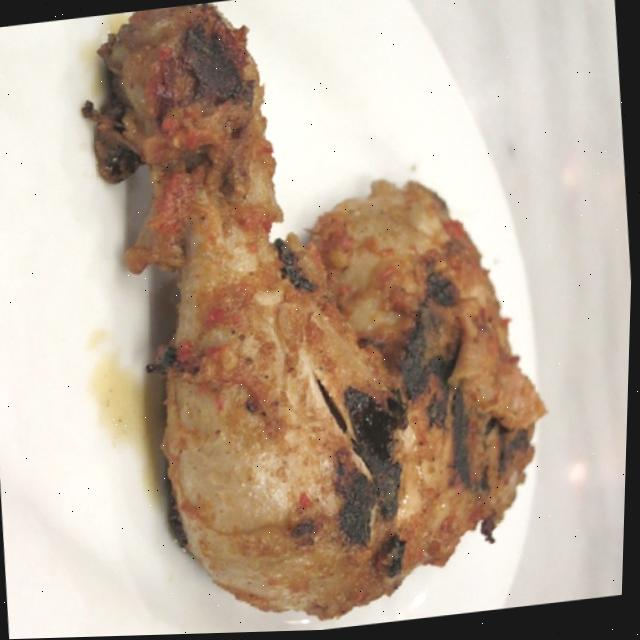鸡肉料理 含炸鸡: (28, 0, 622, 639)
